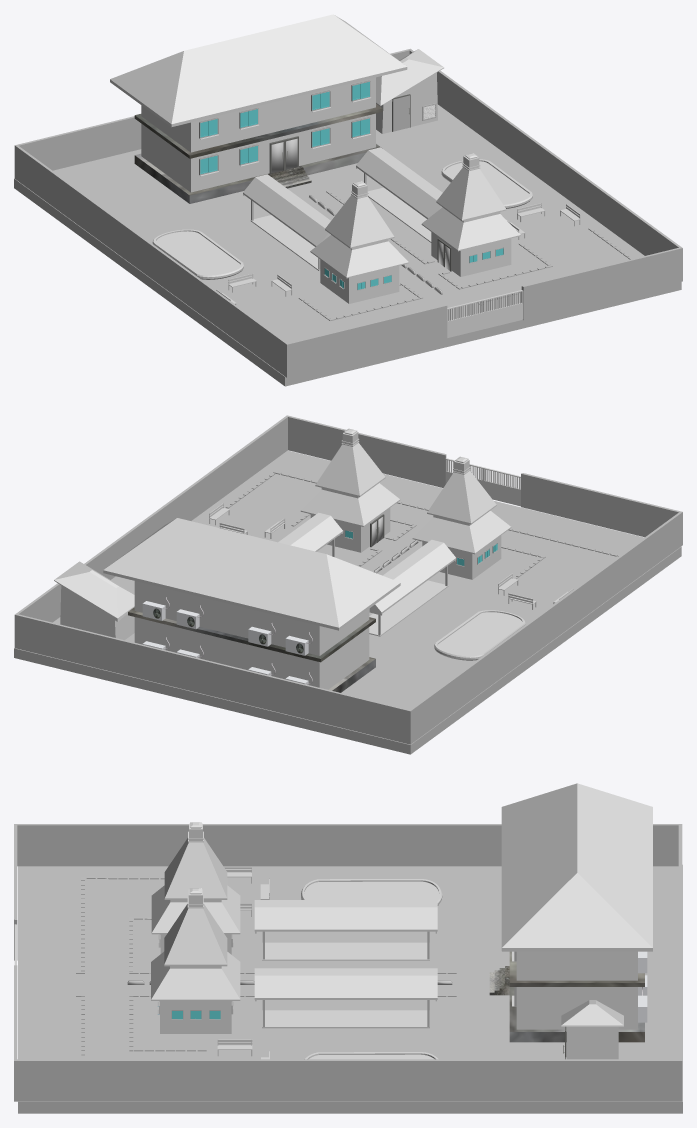
File: Main-area.fbx
3 views of the same model, one above another, from view 1: azimuth 30°, elevation 25°; view 2: azimuth 150°, elevation 25°; view 3: azimuth 270°, elevation 25° (orthographic). The views are drawn at different scales.
Parts seen in each view (by area): view 1: Plane, Wall.004, Dorm-roof, Dorm, Building-Right-wing.001, Building-Right-wing, Roof-outdoocorrirdor, roof-outdoocorrirdor, Dorm-body-2, Grass.001, Cube.022, Dorm-body-1 (+9 smaller); view 2: Wall.004, Plane, Dorm-roof, Dorm, Building-Right-wing.001, Building-Right-wing, Cube.022, Roof-outdoocorrirdor, Grass.001, Cube.004, Floor-outdoocorrirdor, Dorm-body-1 (+4 smaller); view 3: Plane, Wall.004, Dorm-roof, Building-Right-wing, Dorm, Roof-outdoocorrirdor, roof-outdoocorrirdor, Building-Right-wing.001, Floor-outdoocorrirdor.001, Floor-outdoocorrirdor, Grass.001, Cube.004 (+6 smaller).
Part boxes in pixels (x1=…): Plane: x1=14, y1=104, x2=681, y2=386; Wall.004: x1=14, y1=48, x2=682, y2=377; Dorm-roof: x1=110, y1=14, x2=407, y2=127; Dorm: x1=141, y1=77, x2=375, y2=192; Building-Right-wing.001: x1=310, y1=181, x2=408, y2=303; Building-Right-wing: x1=421, y1=153, x2=520, y2=276; Roof-outdoocorrirdor: x1=243, y1=174, x2=330, y2=246; roof-outdoocorrirdor: x1=356, y1=147, x2=442, y2=218; Dorm-body-2: x1=134, y1=144, x2=382, y2=203; Grass.001: x1=156, y1=231, x2=240, y2=274; Cube.022: x1=376, y1=49, x2=443, y2=105; Dorm-body-1: x1=134, y1=104, x2=382, y2=158; Wall.004: x1=14, y1=415, x2=682, y2=744; Plane: x1=14, y1=450, x2=681, y2=754; Dorm-roof: x1=103, y1=518, x2=400, y2=630; Dorm: x1=134, y1=581, x2=369, y2=689; Building-Right-wing.001: x1=412, y1=456, x2=511, y2=579; Building-Right-wing: x1=300, y1=428, x2=400, y2=552; Cube.022: x1=54, y1=561, x2=134, y2=621; Roof-outdoocorrirdor: x1=374, y1=540, x2=456, y2=613; Grass.001: x1=437, y1=612, x2=522, y2=655; Cube.004: x1=60, y1=586, x2=134, y2=640; Floor-outdoocorrirdor: x1=369, y1=580, x2=448, y2=636; Dorm-body-1: x1=128, y1=607, x2=375, y2=662; Plane: x1=18, y1=864, x2=682, y2=1113; Wall.004: x1=14, y1=824, x2=682, y2=1101; Dorm-roof: x1=501, y1=783, x2=652, y2=951; Building-Right-wing: x1=151, y1=888, x2=240, y2=1033; Dorm: x1=516, y1=951, x2=637, y2=1029; Roof-outdoocorrirdor: x1=254, y1=900, x2=437, y2=931; roof-outdoocorrirdor: x1=254, y1=968, x2=437, y2=999; Building-Right-wing.001: x1=151, y1=822, x2=240, y2=954; Floor-outdoocorrirdor.001: x1=262, y1=1010, x2=429, y2=1028; Floor-outdoocorrirdor: x1=262, y1=942, x2=429, y2=960; Grass.001: x1=304, y1=881, x2=438, y2=899; Cube.004: x1=566, y1=1026, x2=618, y2=1059.
Bounding box in the file's own units: 42.6 × 14.16 × 50.75.
